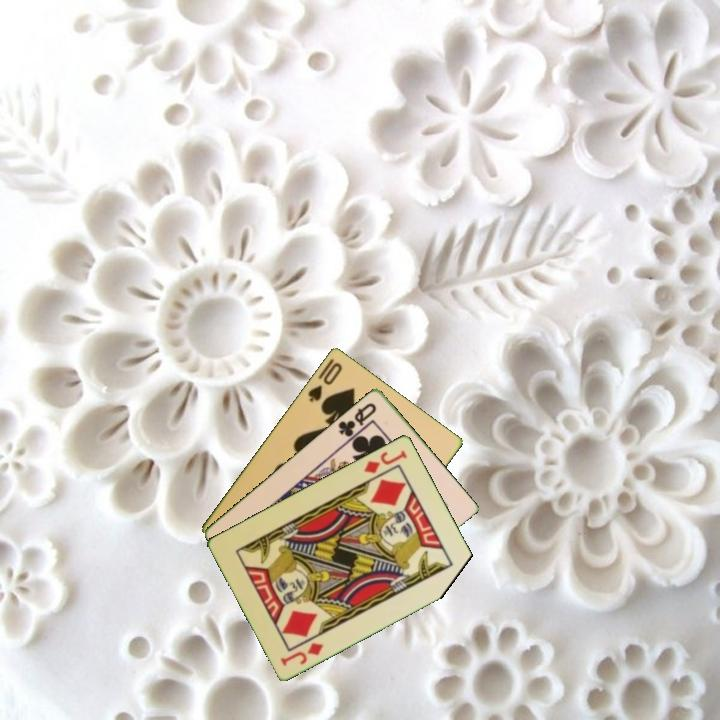10s: (304, 358, 345, 405)
Jd: (360, 446, 410, 476), (277, 639, 327, 668)
Qc: (334, 399, 379, 439)
